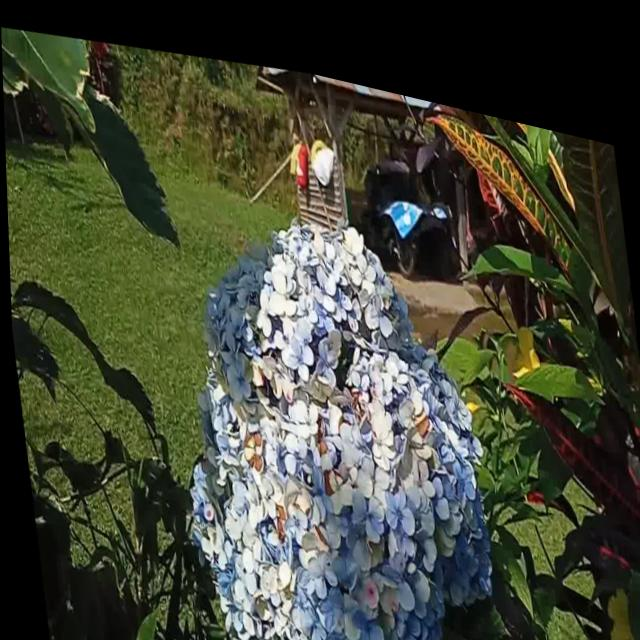Flower: (148, 159, 515, 640)
